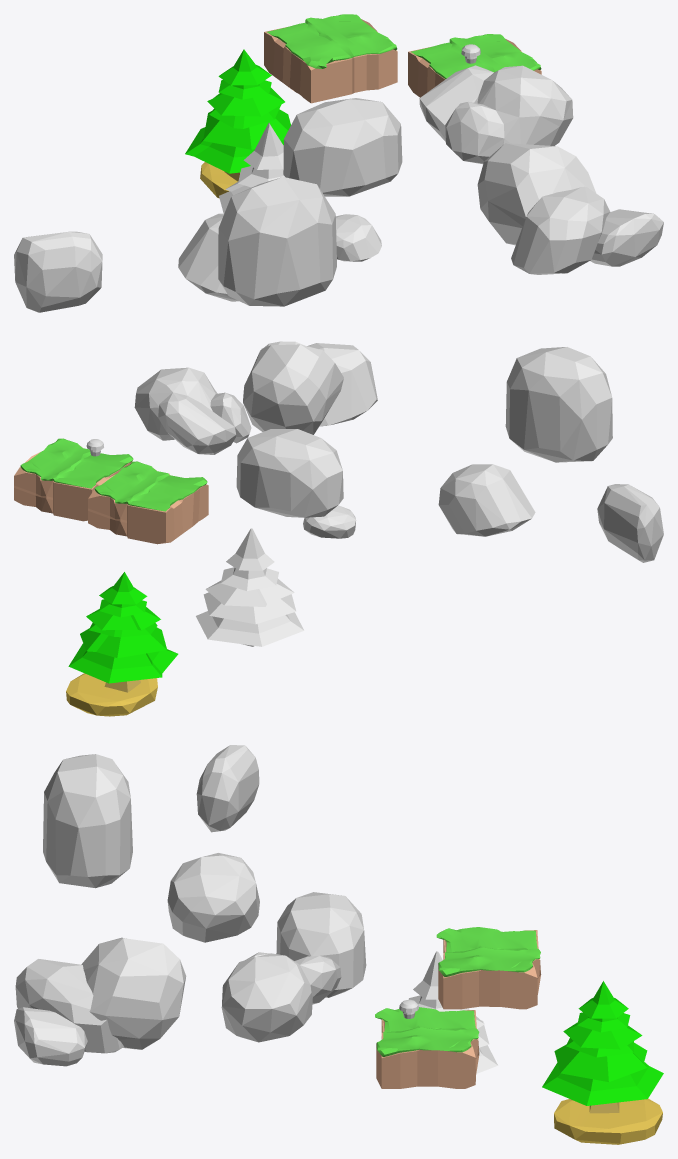
File: tree.fbx
3 renders of one model, top to bottom at view 1: azimuth 30°, elevation 25°; view 2: azimuth 150°, elevation 25°; view 3: azimuth 270°, elevation 25°, orthographic. The views are drawn at different scales.
Visible parts, largest first — view 1: 立方体, Cube.007, 立方体.001, 锥体.006, Cube.002, Cube.001, Cube.006, 立方体.003, 立方体.004, Cube.003, 立方体.006, Cube.005 (+4 smaller); view 2: 立方体, 立方体.001, 立方体.002, 锥体.006, Cube.007, Cube.002, Cube.005, 立方体.003, Cube.006, 立方体.004, 立方体.006, Cube.001 (+3 smaller); view 3: 立方体, 锥体.006, Cube.002, Cube.007, Cube.005, 立方体.001, Cube.001, 立方体.004, Cube.006, 立方体.006, 立方体.003, 立方体.007 (+3 smaller).
Part boxes in pixels (box(x1,y1,x2,y2)): 立方体: box(218, 177, 336, 306); Cube.007: box(419, 65, 573, 164); 立方体.001: box(283, 98, 402, 196); 锥体.006: box(185, 49, 290, 181); Cube.002: box(477, 143, 595, 245); Cube.001: box(511, 186, 610, 274); Cube.006: box(14, 231, 102, 312); 立方体.003: box(264, 19, 397, 103); 立方体.004: box(267, 14, 397, 68); Cube.003: box(590, 209, 663, 266); 立方体.006: box(411, 34, 541, 79); Cube.005: box(178, 213, 238, 301); 立方体: box(505, 347, 612, 462); 立方体.001: box(236, 429, 343, 517); 立方体.002: box(196, 528, 303, 646); 锥体.006: box(68, 572, 178, 692); Cube.007: box(134, 367, 251, 454); Cube.002: box(243, 344, 343, 434); Cube.005: box(438, 464, 535, 536); 立方体.003: box(88, 468, 208, 544); Cube.006: box(597, 484, 663, 562); 立方体.004: box(94, 461, 207, 511); 立方体.006: box(20, 438, 133, 488); Cube.001: box(307, 343, 377, 426); 立方体: box(43, 754, 132, 888); 锥体.006: box(542, 981, 663, 1113); Cube.002: box(81, 937, 186, 1049); Cube.007: box(221, 952, 341, 1042); Cube.005: box(167, 853, 259, 942); 立方体.001: box(276, 892, 366, 997); Cube.001: box(15, 959, 123, 1053); 立方体.004: box(436, 927, 540, 976); Cube.006: box(196, 745, 259, 832); 立方体.006: box(375, 1007, 479, 1056); 立方体.003: box(438, 930, 541, 1009); 立方体.007: box(376, 1010, 479, 1088).
Bounding box in the file's own units: 1382 × 571 × 1309.
